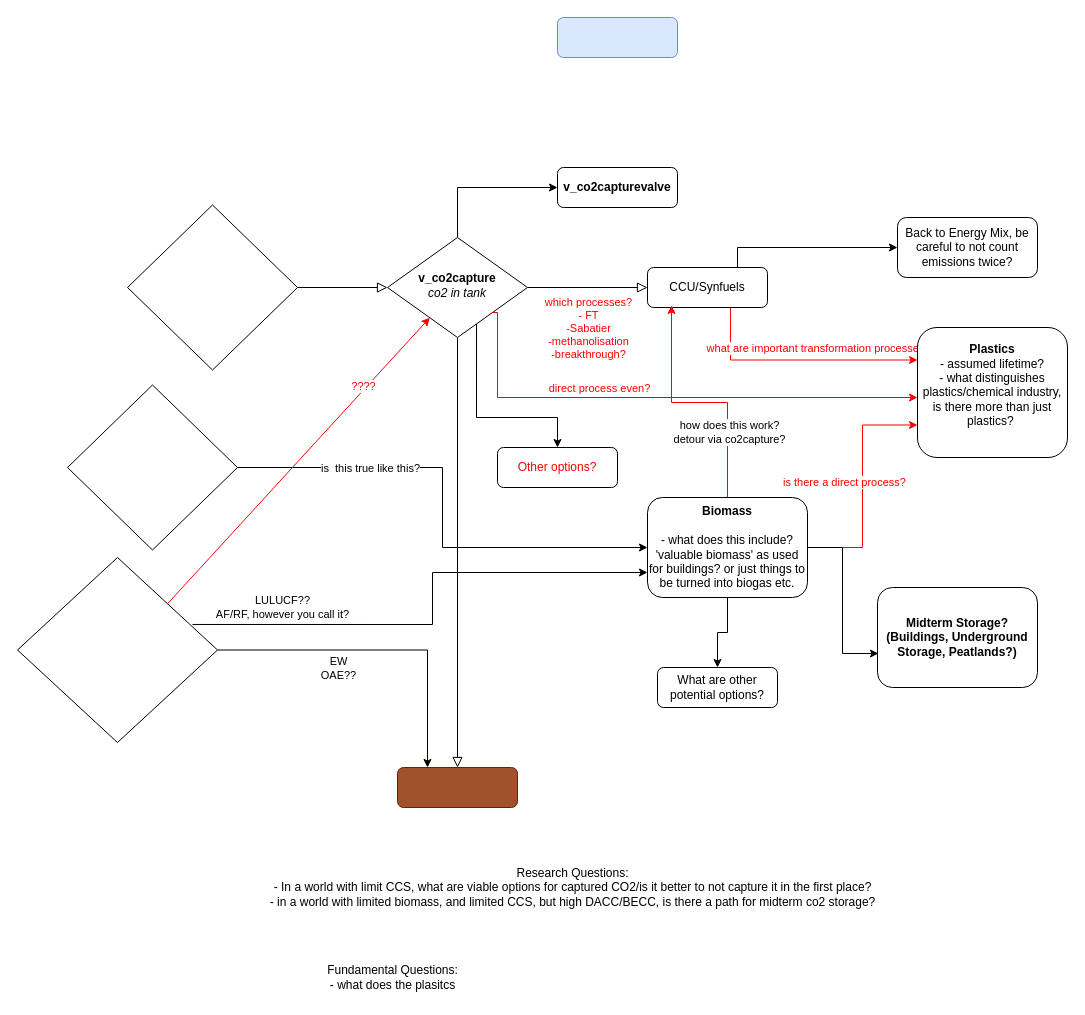
The diagram is 1085 pixels wide and 1015 high, and some of its shapes have lost their labels. The centre of each missing label's shape, as x and y in pixels:
Atmosphere: the point at 617,37
Geological Storage: the point at 457,787
Multiple Natural Capture pathways: the point at 152,467
Multiple Naturally Enhanced Capture pathways: the point at 117,649
Multiple Technological Capture pathways: the point at 212,287
